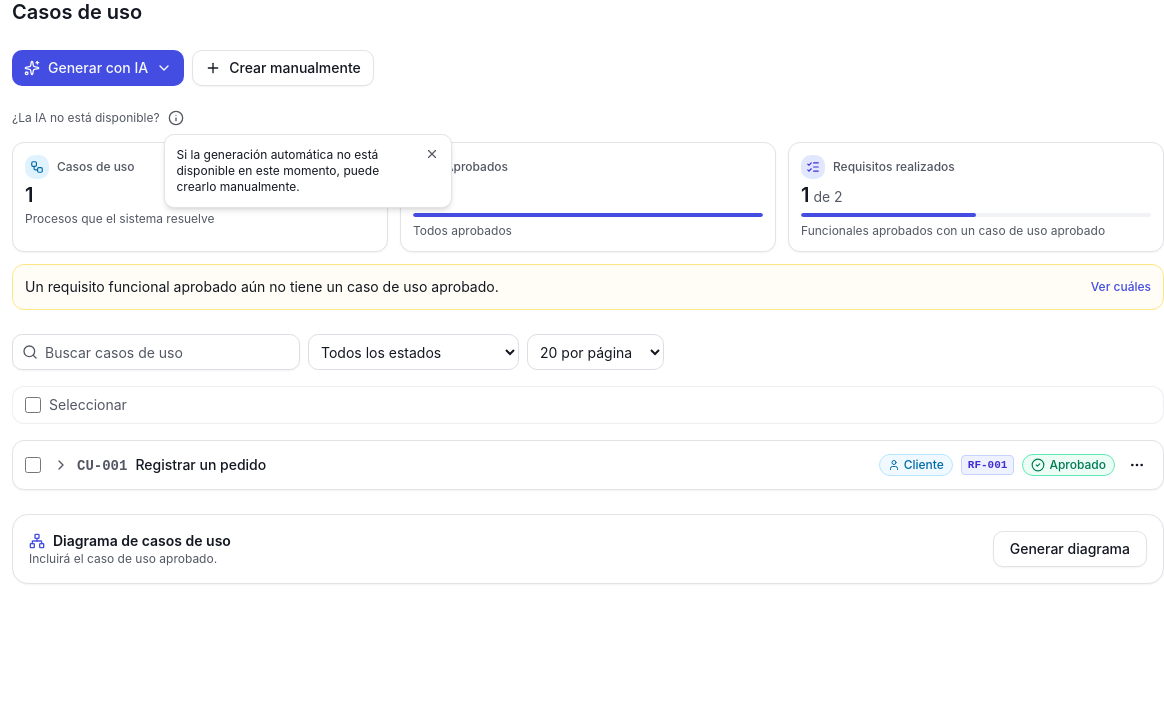
Use cases page › generates from the chosen requirements and shows proposals as cards
Click the button "Generar con IA": (98, 68) [12, 50, 184, 86]
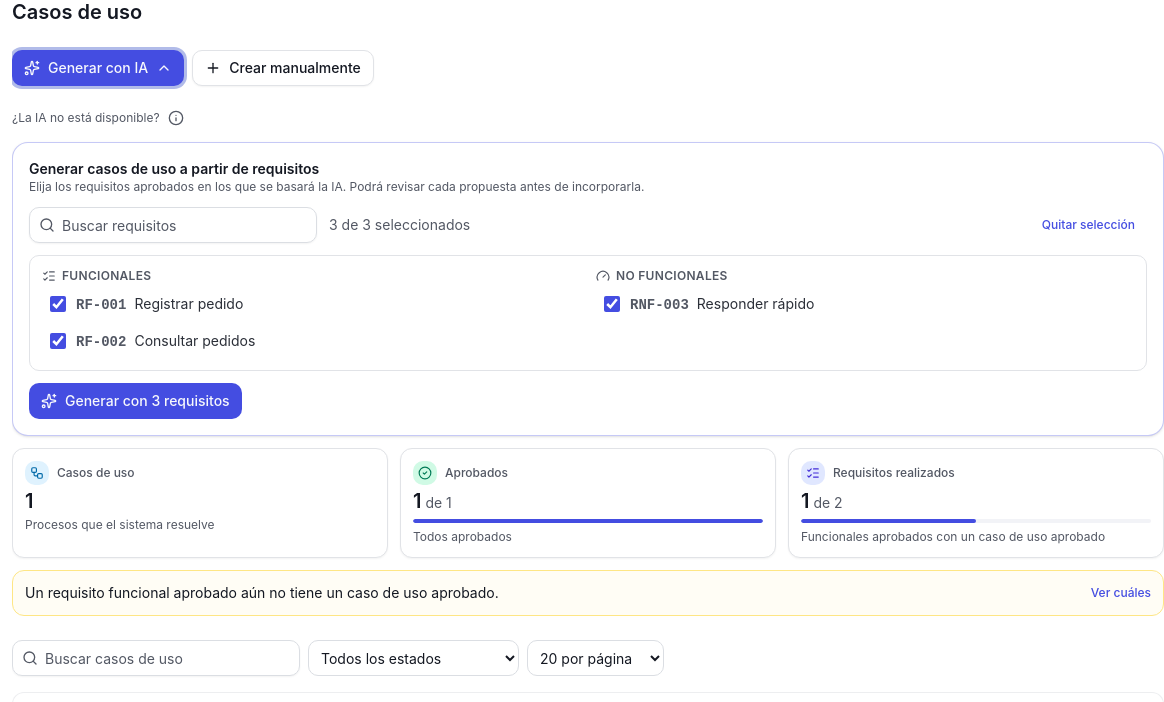
Expected: the text "3 de 3 seleccionados" is shown, [329, 215, 470, 235]
Click the checkbox labelled "RNF-003 Responder rápido": (612, 304) [604, 296, 620, 312]
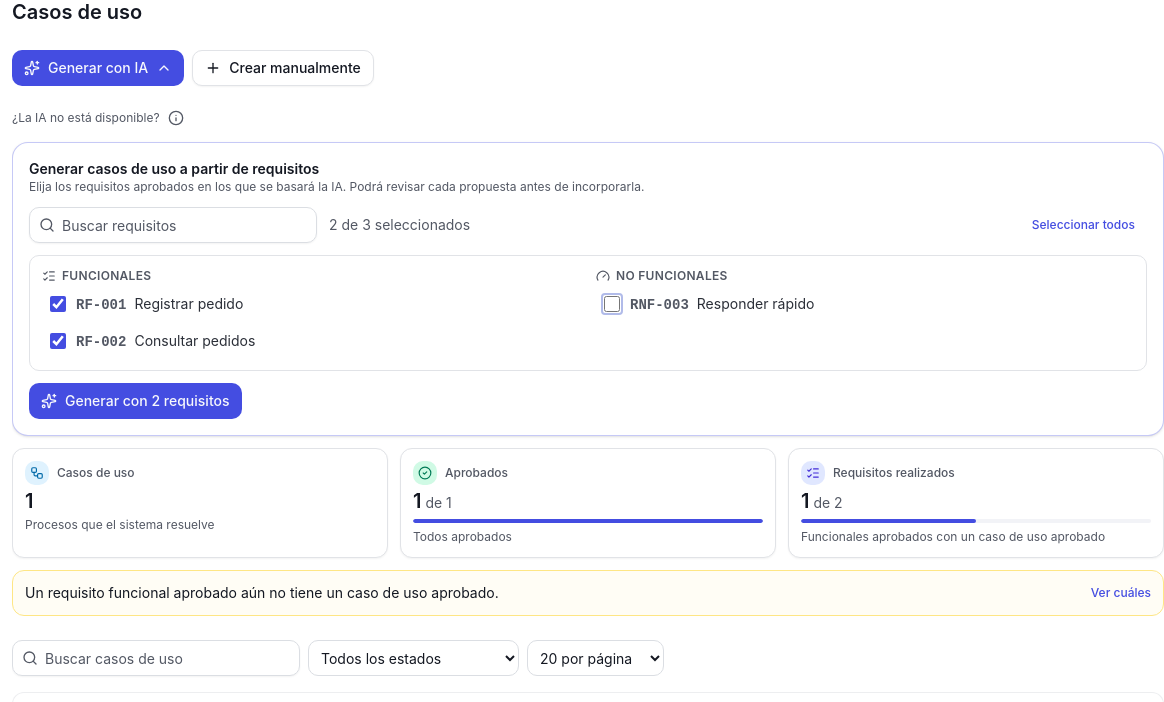
Expected: the text "2 de 3 seleccionados" is shown, [329, 215, 470, 235]
Click the button "Generar con 2 requisitos": (135, 401) [29, 383, 242, 419]
(page scrolled)
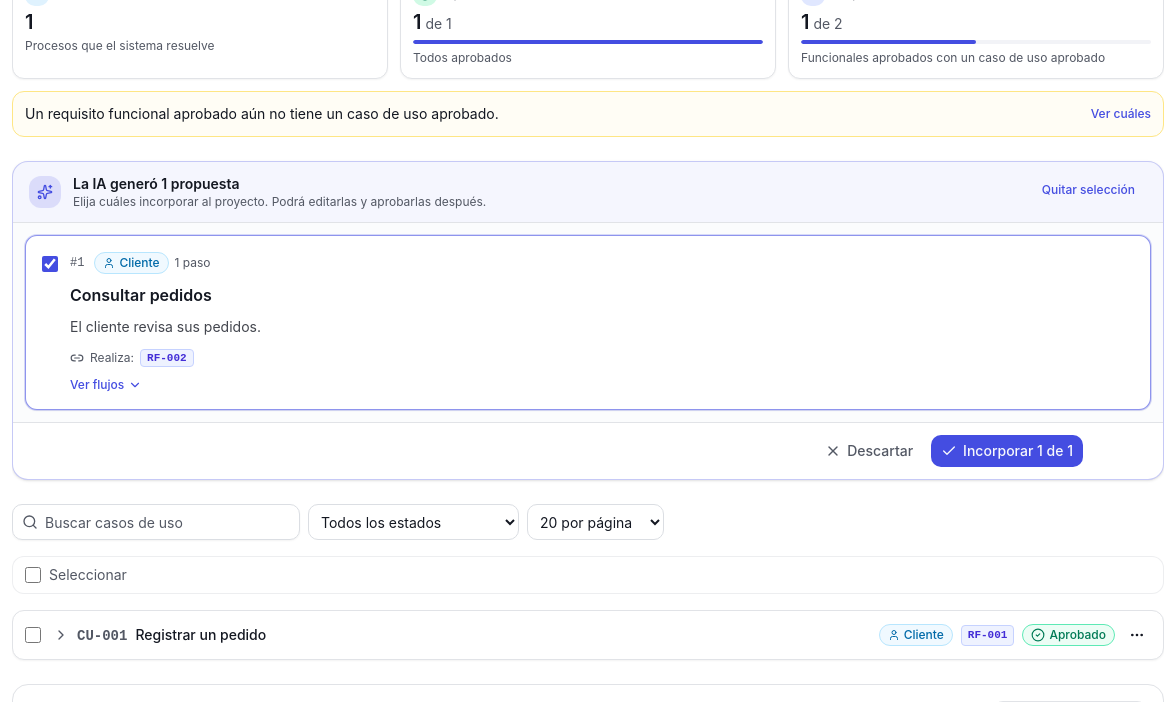
Expected: the text "El cliente revisa sus pedidos." is shown, [70, 318, 261, 335]
Expected: the text titled "Consultar pedidos" reads "RF-002", [147, 352, 187, 364]
